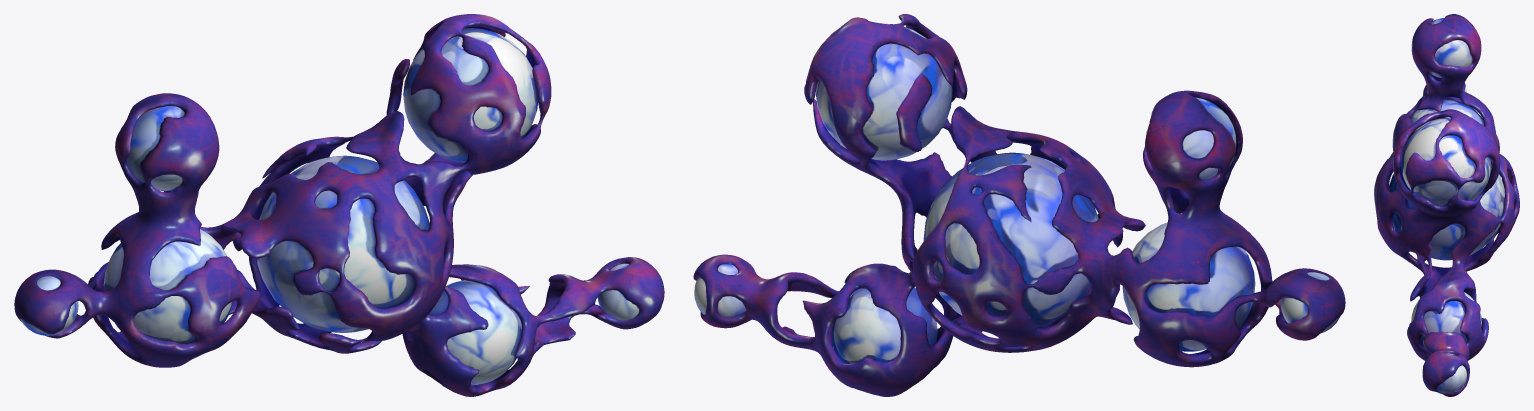
The model's file is mancha_luin.glb.
The picture shows the model from 3 angles, left to right: view 1: azimuth 30°, elevation 25°; view 2: azimuth 150°, elevation 25°; view 3: azimuth 270°, elevation 25°; orthographic projection. The views are drawn at different scales.
Visible parts, largest first — view 1: Mball.001, Sphere, Sphere.001, Sphere.002, Sphere.004, Sphere.003, Sphere.006, Sphere.005; view 2: Mball.001, Sphere, Sphere.001, Sphere.002, Sphere.004, Sphere.003, Sphere.006, Sphere.005; view 3: Mball.001, Sphere.001, Sphere, Sphere.004, Sphere.003, Sphere.002, Sphere.006.
Boxes of the visible parts, x1,y1,x2,y2 form: Mball.001: (14, 14, 664, 396); Sphere: (257, 155, 429, 332); Sphere.001: (403, 28, 537, 162); Sphere.002: (103, 229, 233, 343); Sphere.004: (428, 280, 521, 385); Sphere.003: (126, 106, 184, 191); Sphere.006: (597, 263, 639, 320); Sphere.005: (20, 276, 78, 335); Mball.001: (693, 14, 1345, 396); Sphere: (923, 152, 1098, 327); Sphere.001: (816, 23, 952, 160); Sphere.002: (1122, 222, 1255, 351); Sphere.004: (831, 287, 937, 363); Sphere.003: (1146, 97, 1236, 179); Sphere.006: (694, 263, 746, 317); Sphere.005: (1280, 272, 1340, 333); Mball.001: (1374, 14, 1519, 396); Sphere.001: (1401, 118, 1491, 206); Sphere: (1389, 166, 1504, 260); Sphere.004: (1411, 292, 1481, 343); Sphere.003: (1429, 18, 1472, 77); Sphere.002: (1410, 99, 1483, 125); Sphere.006: (1437, 353, 1466, 393).
Size of the model in its own units: 7.64 by 4.21 by 2.26.
2 materials, 2 textured.
